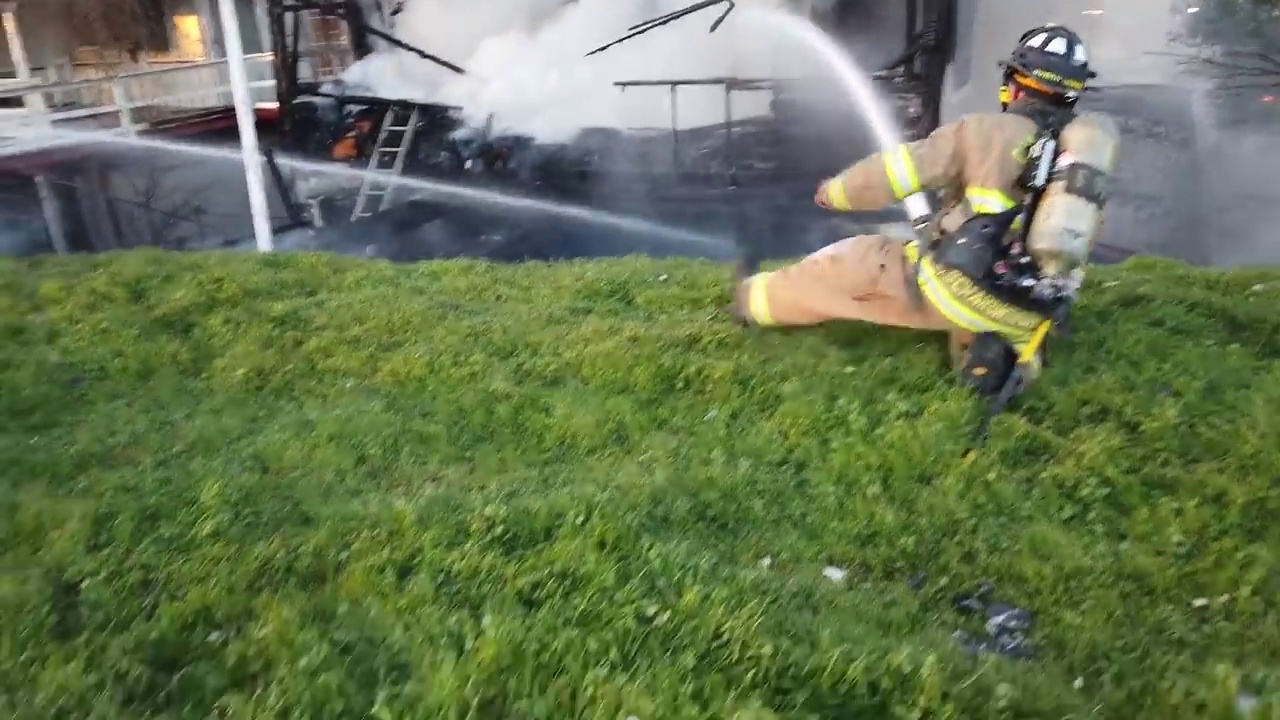fire: (156, 3, 210, 69), (324, 114, 370, 171)
smoke: (364, 1, 776, 134), (1113, 89, 1280, 271)
